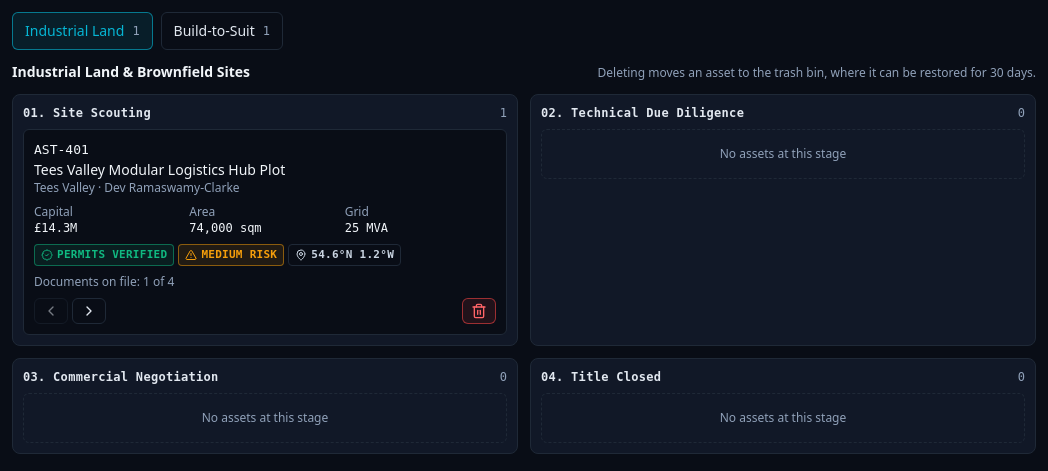
KanbanBoard › disables the move that does not exist at either end of the pipeline
The image size is (1048, 471).
Expected: the button named "AST-401 is at the first stage" is disabled, x1=34 y1=298 x2=68 y2=324
Expected: the button named "Move AST-401 forward to 02. Technical Due Diligence" is enabled, x1=72 y1=298 x2=106 y2=324
Click the tab "Build-to-Suit 1". click: (222, 31)
box: x1=161 y1=12 x2=283 y2=50
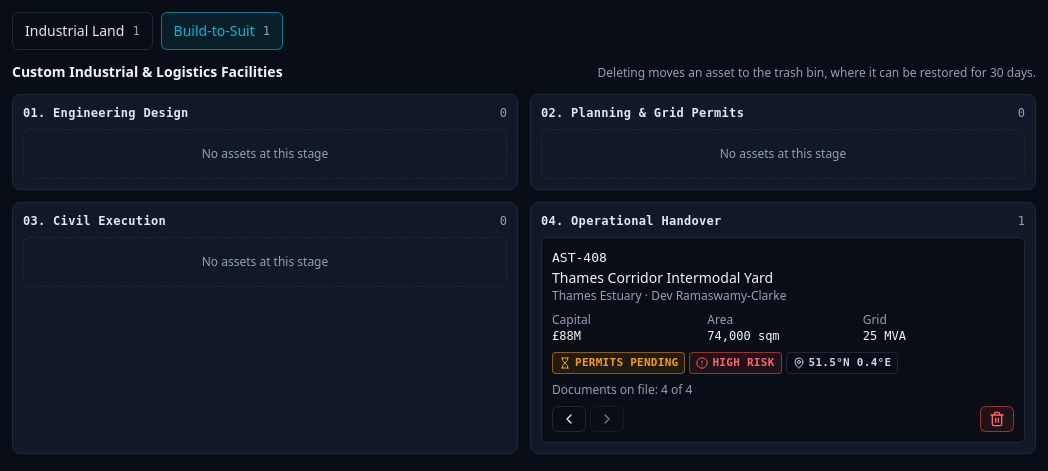
Now the button named "AST-408 is at the last stage" is disabled, box x1=590 y1=406 x2=624 y2=432
